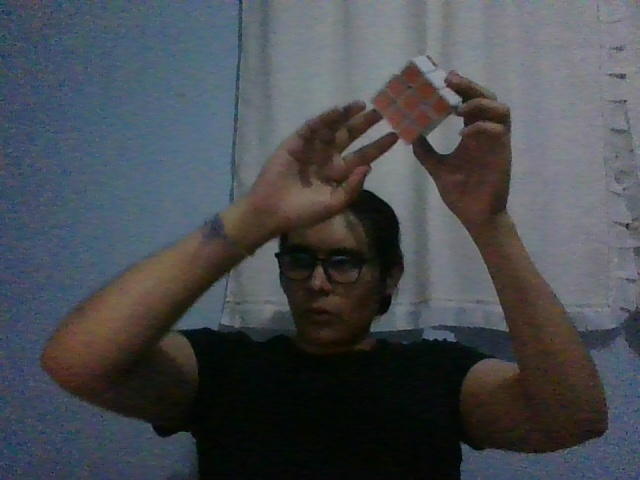rubik: (370, 54, 462, 146)
